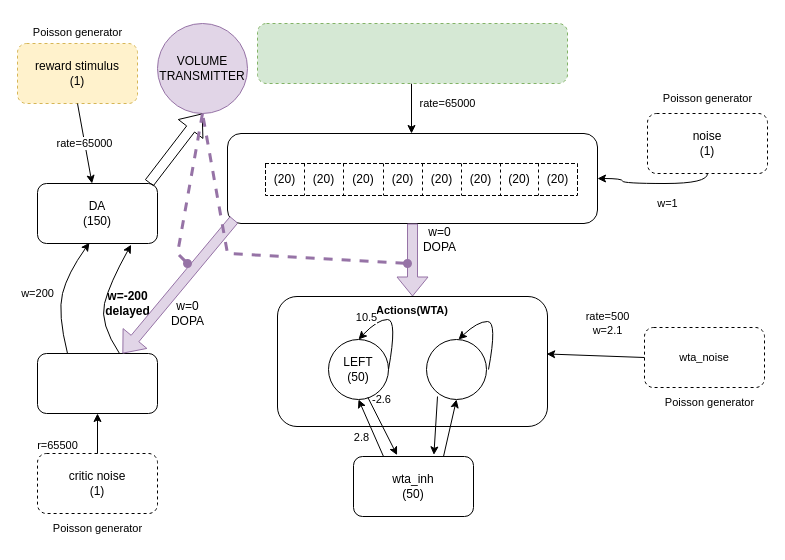
Image size: 785x560. Some labels were removed from this diagram. Each missing label, with the box of its shape:
Critic (50): (36, 352, 158, 414)
INPUT Stimulus (1): (256, 22, 568, 84)
RIGHT (50): (426, 338, 486, 400)
States(8x20): (226, 132, 598, 224)
